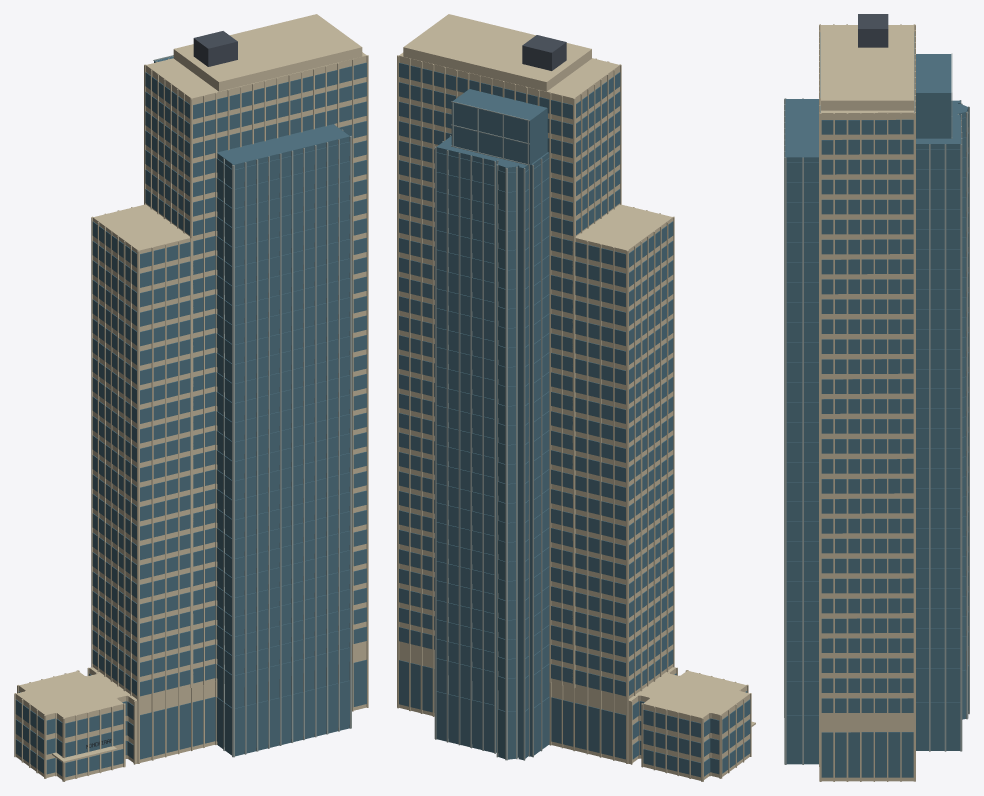
File: mondriaan-tower.glb
The picture shows the model from 3 angles, left to right: view 1: azimuth 30°, elevation 25°; view 2: azimuth 150°, elevation 25°; view 3: azimuth 270°, elevation 25°; orthographic projection. The views are drawn at different scales.
Parts seen in each view (by area): view 1: mondriaan-tower; view 2: mondriaan-tower; view 3: mondriaan-tower.
Boxes of the visible parts, x1,y1,x2,y2 form: mondriaan-tower: [14, 14, 368, 781]; mondriaan-tower: [397, 14, 755, 781]; mondriaan-tower: [784, 14, 969, 781].
Bounding box in the file's own units: 59.62 × 122 × 29.55.
